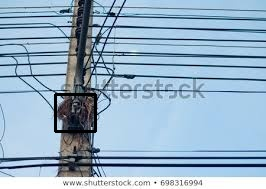bird-nest: (59, 94, 94, 120)
